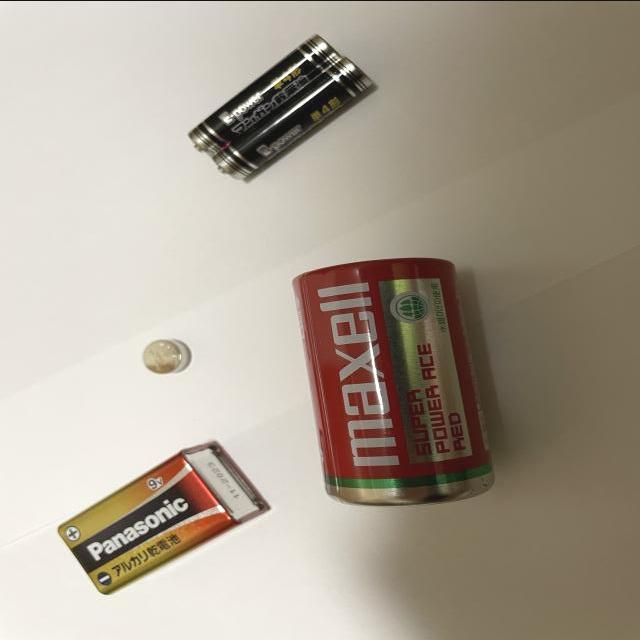9V: (57, 439, 270, 596)
